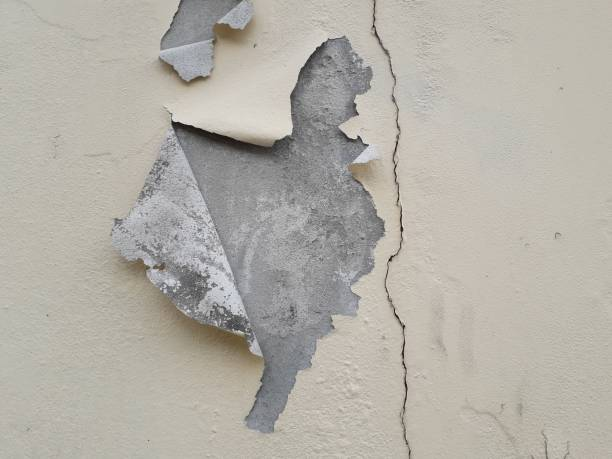crack: (367, 0, 415, 458)
